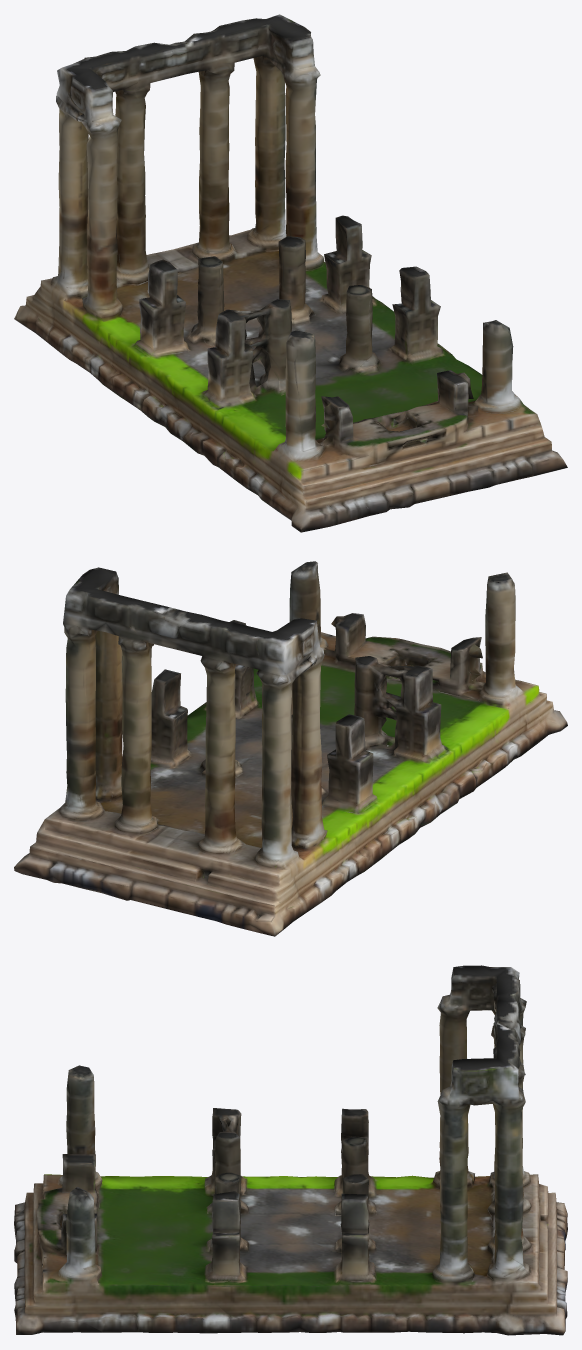
Rendered from tempio-v1.glb.
3 renders of one model, top to bottom at view 1: azimuth 30°, elevation 25°; view 2: azimuth 150°, elevation 25°; view 3: azimuth 270°, elevation 25°, orthographic. The views are drawn at different scales.
Visible parts, largest first — view 1: Mesh1.0; view 2: Mesh1.0; view 3: Mesh1.0.
Boxes of the visible parts, x1=… form: Mesh1.0: x1=14, y1=14, x2=567, y2=532; Mesh1.0: x1=14, y1=561, x2=567, y2=936; Mesh1.0: x1=14, y1=965, x2=567, y2=1335.
Size of the model in its own units: 5.25 by 5 by 9.84.
1 material, 1 textured.
